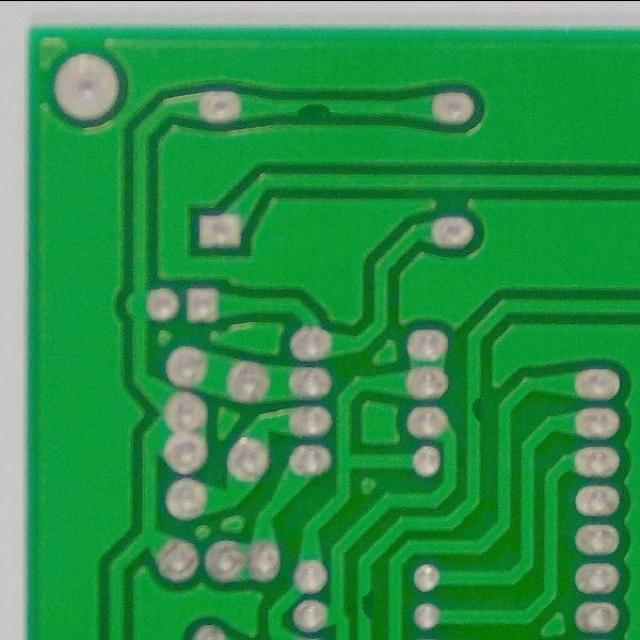MouseBite: (286, 95, 342, 122), (351, 584, 381, 625), (462, 391, 486, 429)
